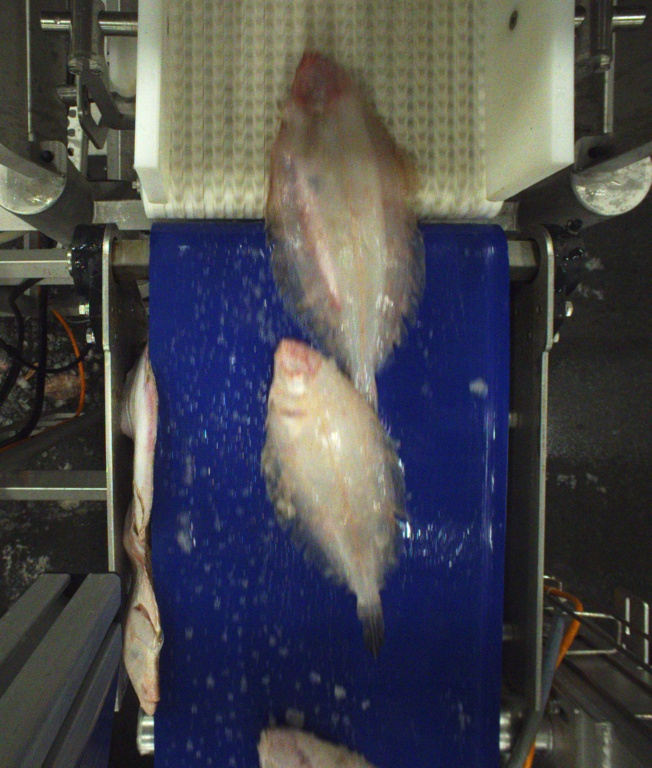WIT: (265, 339, 399, 660)
